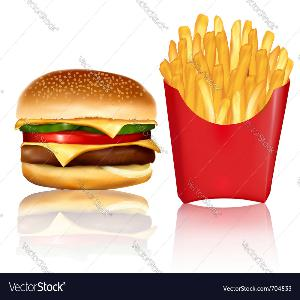cheeseburger_475cal: (11, 56, 166, 194)
fries_350cal: (151, 9, 293, 131)
